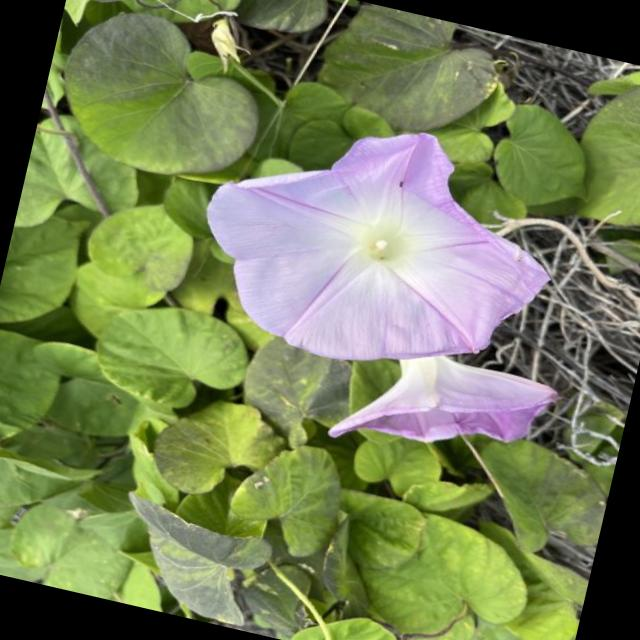ipomoea: (174, 85, 580, 406), (320, 327, 566, 488)
